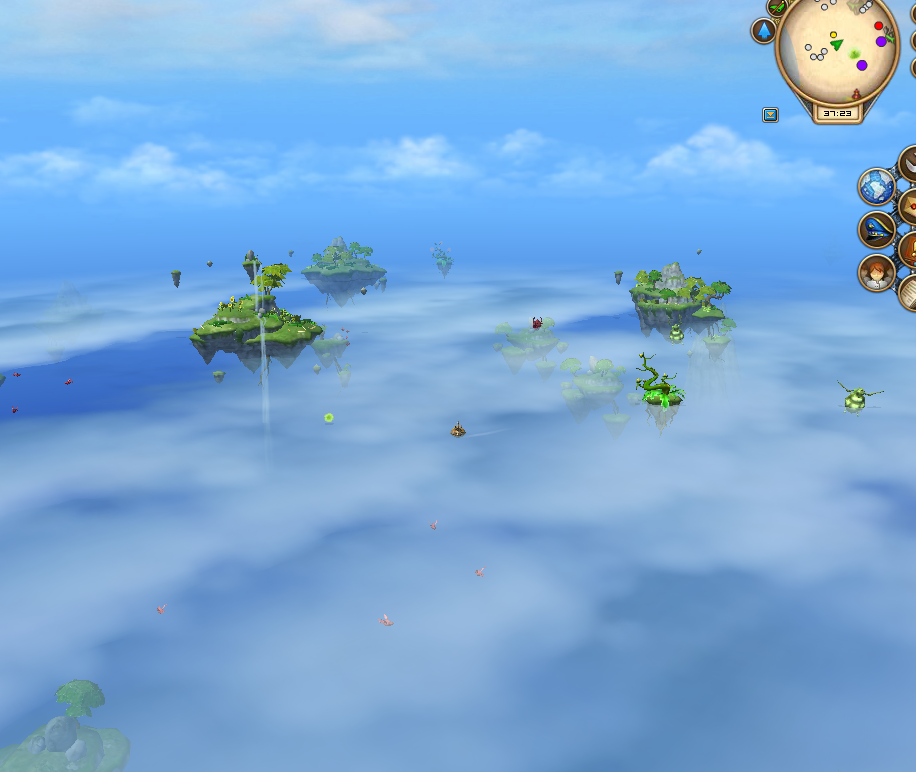dandelion-empty: (633, 350, 688, 427)
dandelion-full: (430, 239, 458, 277)
fluff: (321, 411, 337, 428)
